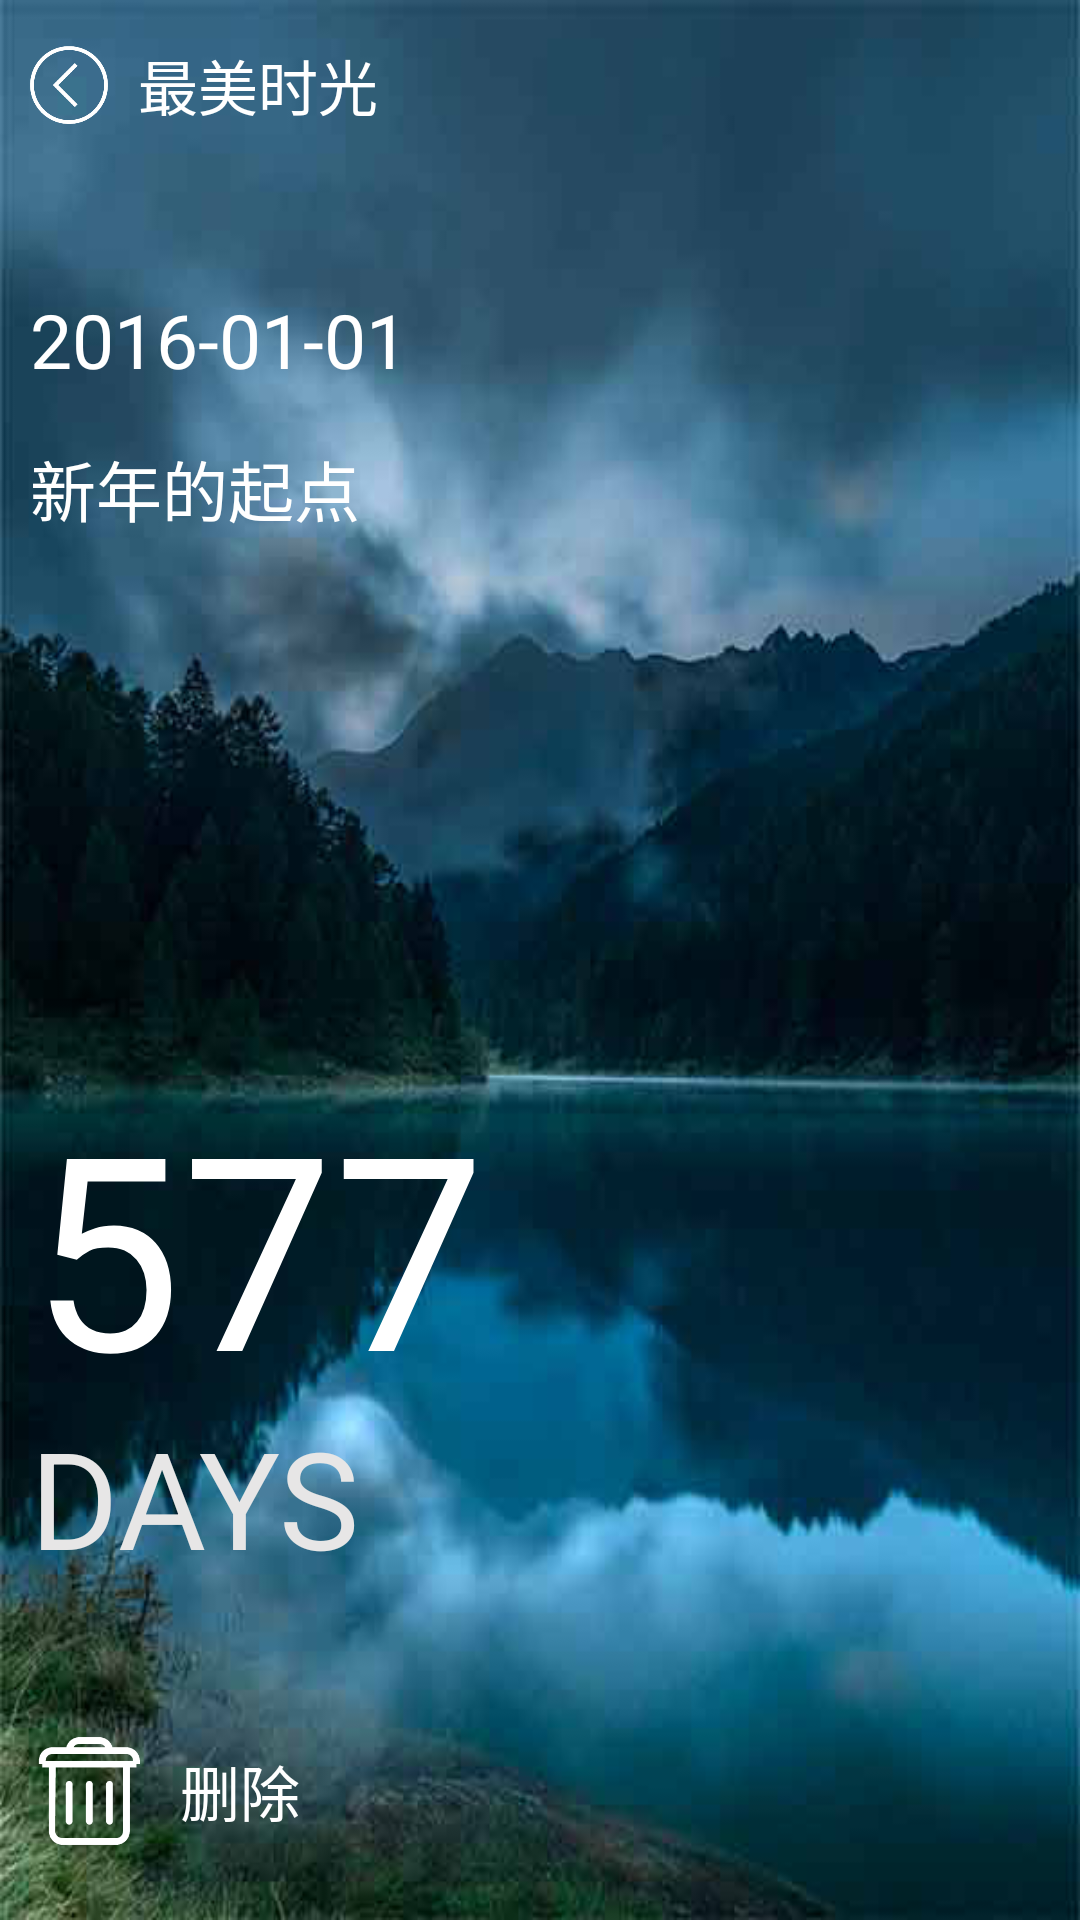

Icons on this 1080w x 1920h Android screen, each with the point to tap as (x=x, y=y):
back jnr: (x=69, y=85)
